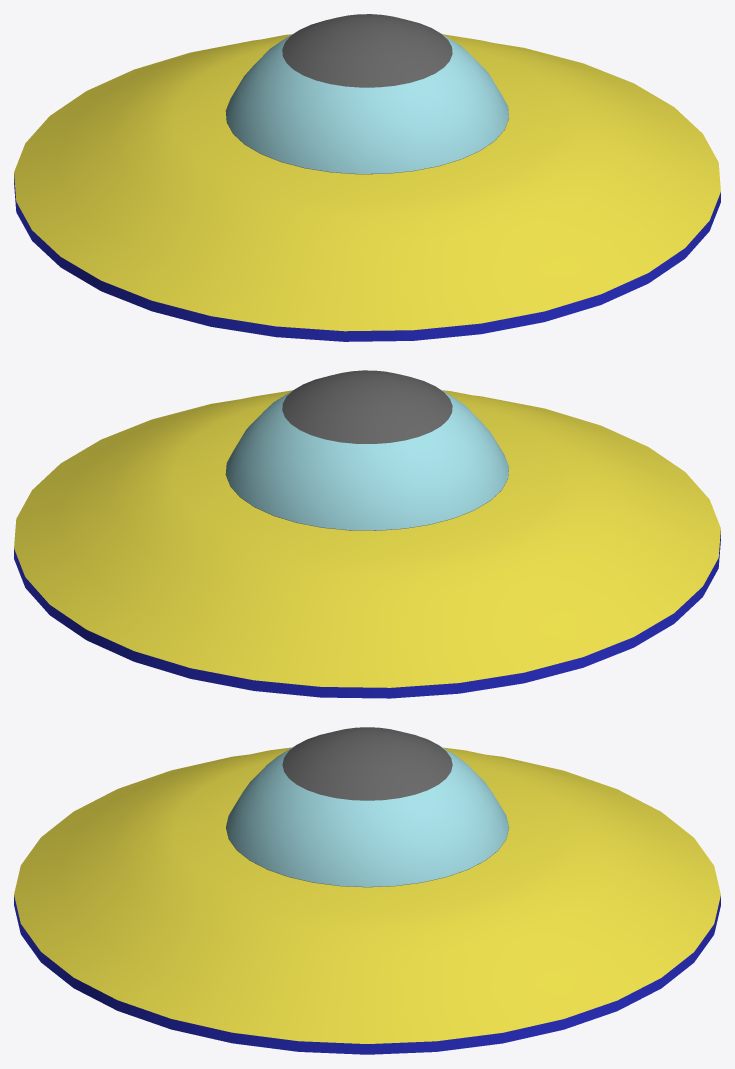
The model's file is nave 1.fbx.
3 views of the same model, one above another, from view 1: azimuth 30°, elevation 25°; view 2: azimuth 150°, elevation 25°; view 3: azimuth 270°, elevation 25° (orthographic).
Parts seen in each view (by area): view 1: Sphere; view 2: Sphere; view 3: Sphere.
Part boxes in pixels (bbox=[...]): Sphere: bbox=[14, 14, 720, 341]; Sphere: bbox=[14, 370, 720, 698]; Sphere: bbox=[14, 727, 720, 1054].
Size of the model in its own units: 549 by 171 by 549.
